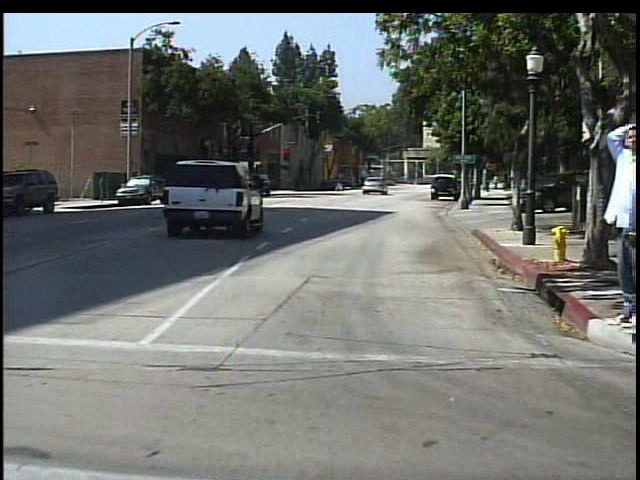person: (592, 116, 632, 335), (332, 171, 348, 194), (492, 171, 502, 193)
